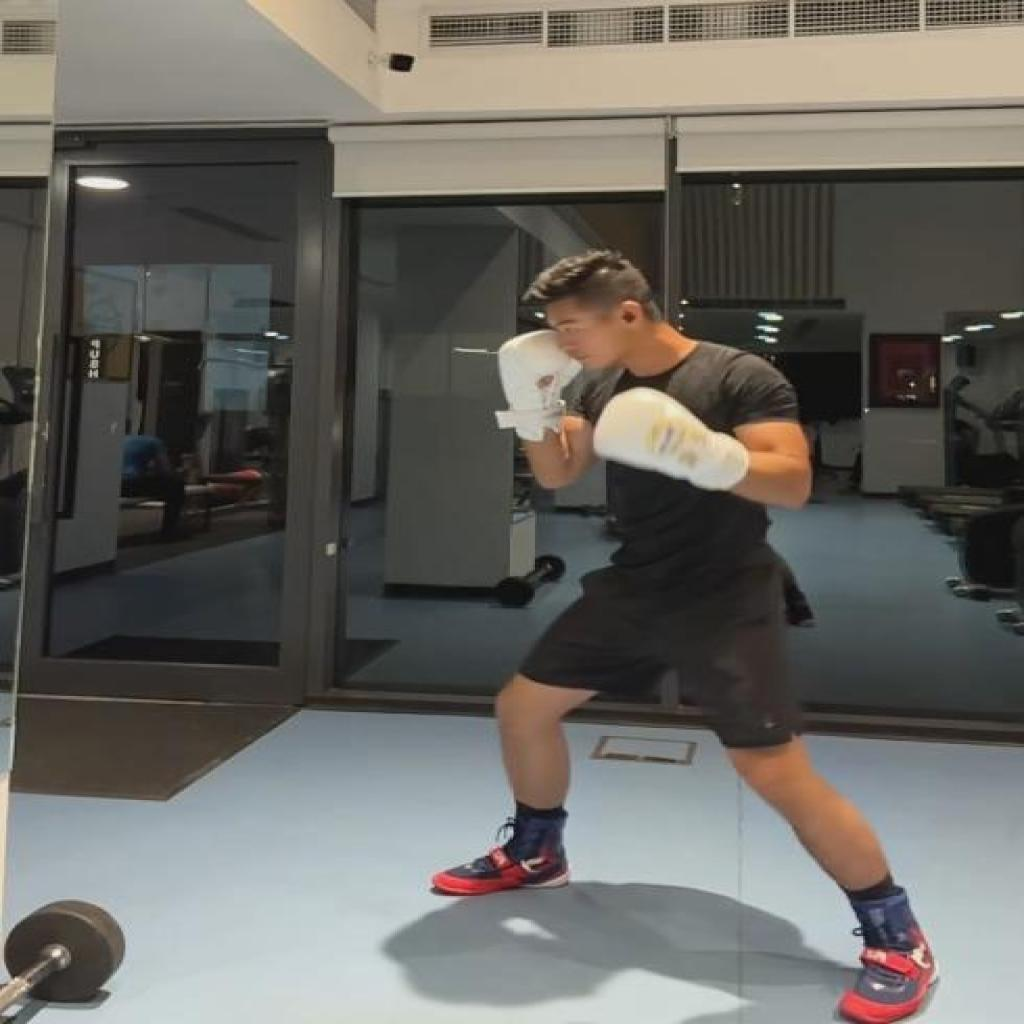no punch: (430, 248, 946, 1024)
